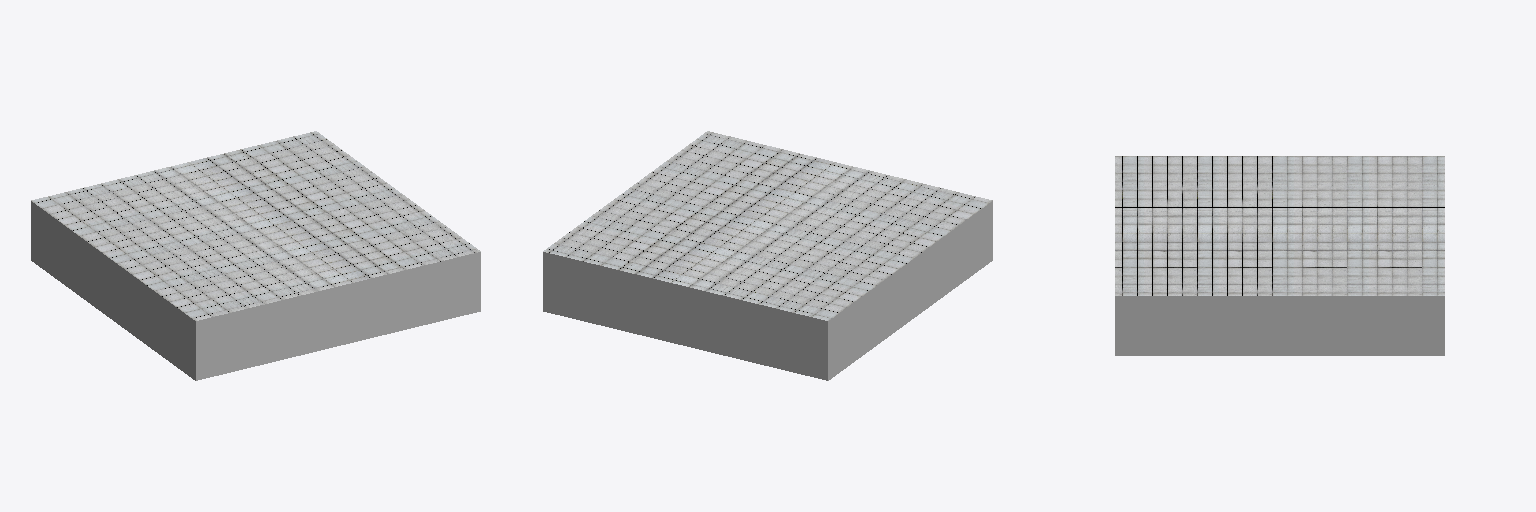
3 views of the same model, side by side, from view 1: azimuth 30°, elevation 25°; view 2: azimuth 150°, elevation 25°; view 3: azimuth 270°, elevation 25° (orthographic).
Visible parts, largest first — view 1: Plane.005_Plane.007, Plane.001_Plane.003, Plane.003_Plane.005; view 2: Plane.005_Plane.007, Plane_Plane.002, Plane.003_Plane.005; view 3: Plane.005_Plane.007, Plane.002_Plane.004.
Part boxes in pixels (bbox=[...]): Plane.005_Plane.007: bbox=[31, 131, 480, 320]; Plane.001_Plane.003: bbox=[196, 252, 480, 380]; Plane.003_Plane.005: bbox=[31, 201, 195, 380]; Plane.005_Plane.007: bbox=[543, 131, 992, 320]; Plane_Plane.002: bbox=[543, 252, 827, 380]; Plane.003_Plane.005: bbox=[828, 201, 992, 380]; Plane.005_Plane.007: bbox=[1115, 156, 1444, 295]; Plane.002_Plane.004: bbox=[1115, 296, 1444, 355].
Bounding box in the file's own units: 20 × 4 × 20.
Materials: 3 (1 with a texture image).